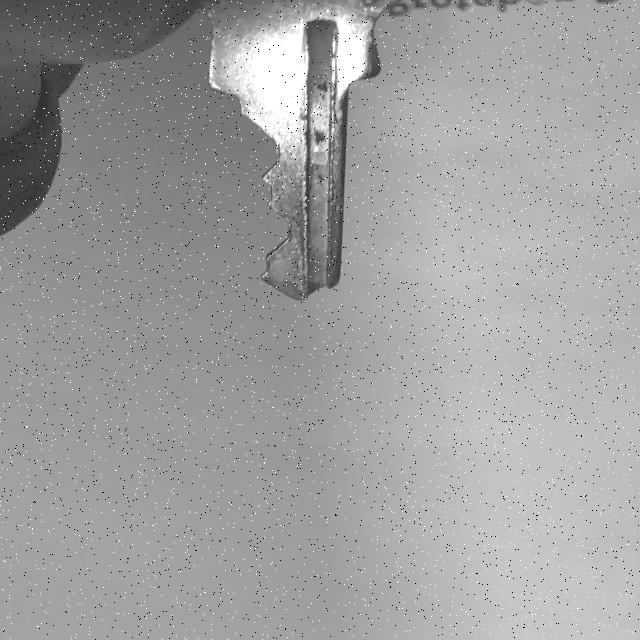key: (204, 0, 394, 300)
